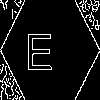E: (25, 25, 54, 70)
